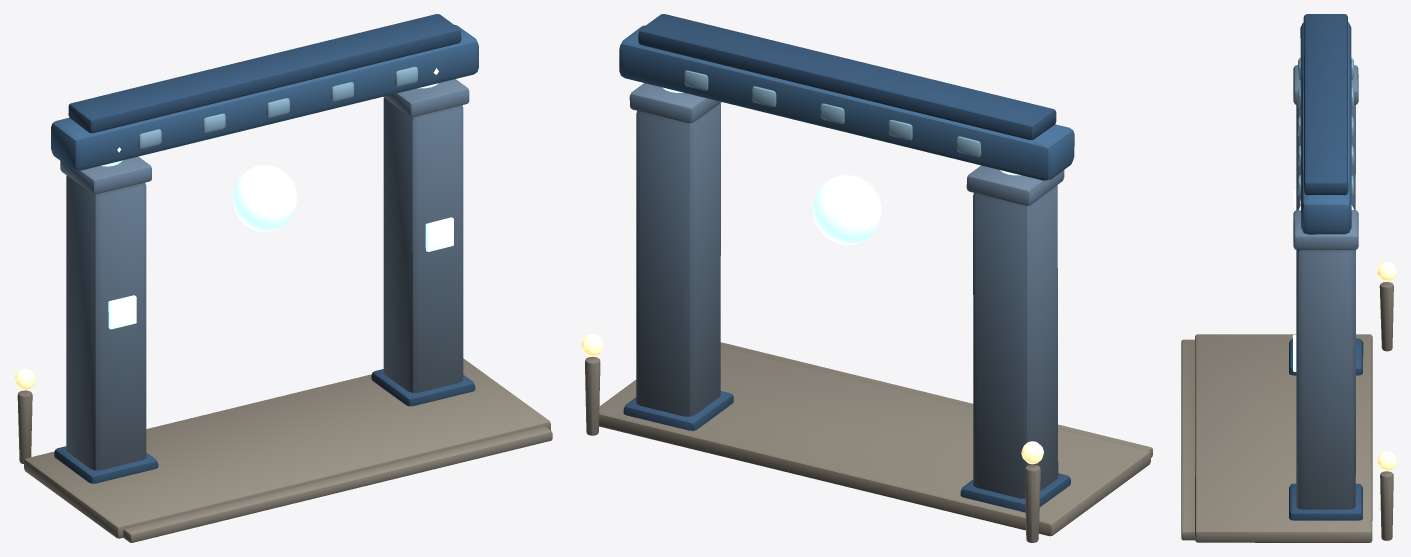
The picture shows the model from 3 angles, left to right: view 1: azimuth 30°, elevation 25°; view 2: azimuth 150°, elevation 25°; view 3: azimuth 270°, elevation 25°; orthographic projection. The views are drawn at different scales.
Parts seen in each view (by area): view 1: gate_34035eff; view 2: gate_34035eff; view 3: gate_34035eff.
Boxes of the visible parts, x1,y1,x2,y2 form: gate_34035eff: (14, 14, 552, 542); gate_34035eff: (581, 14, 1152, 542); gate_34035eff: (1181, 14, 1396, 542).
Bounding box in the file's own units: 5.56 × 4.53 × 2.54.
